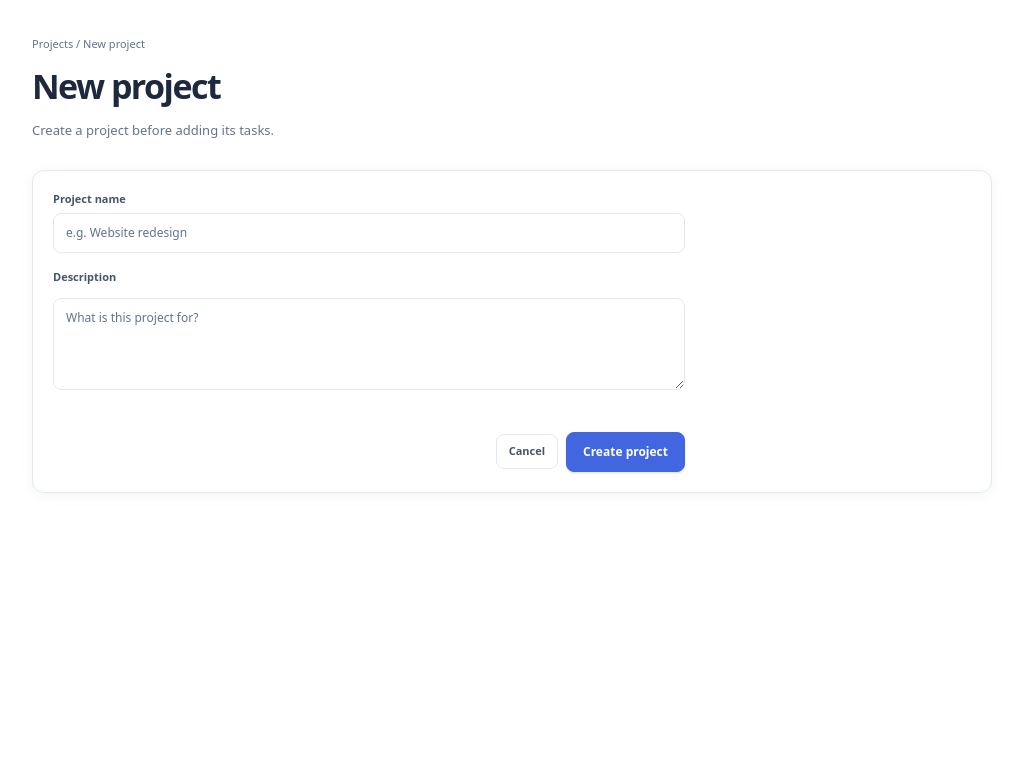
ProjectForm (rejected submit) › keeps what was typed when the action reports a validation error
The image size is (1024, 768).
Type "Website redesign" into the field labelled "Project name" at (369, 233), box [53,213,685,253]
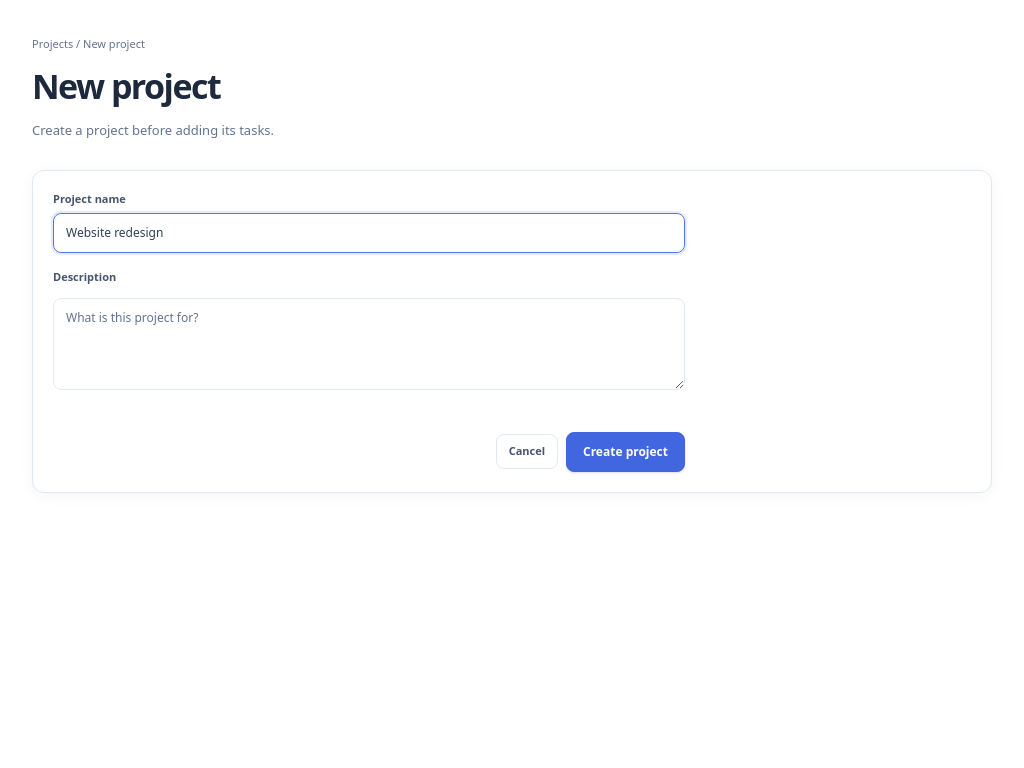
Type "Refresh the public website." into the text box labelled "Description" at (369, 344), box [53,298,685,390]
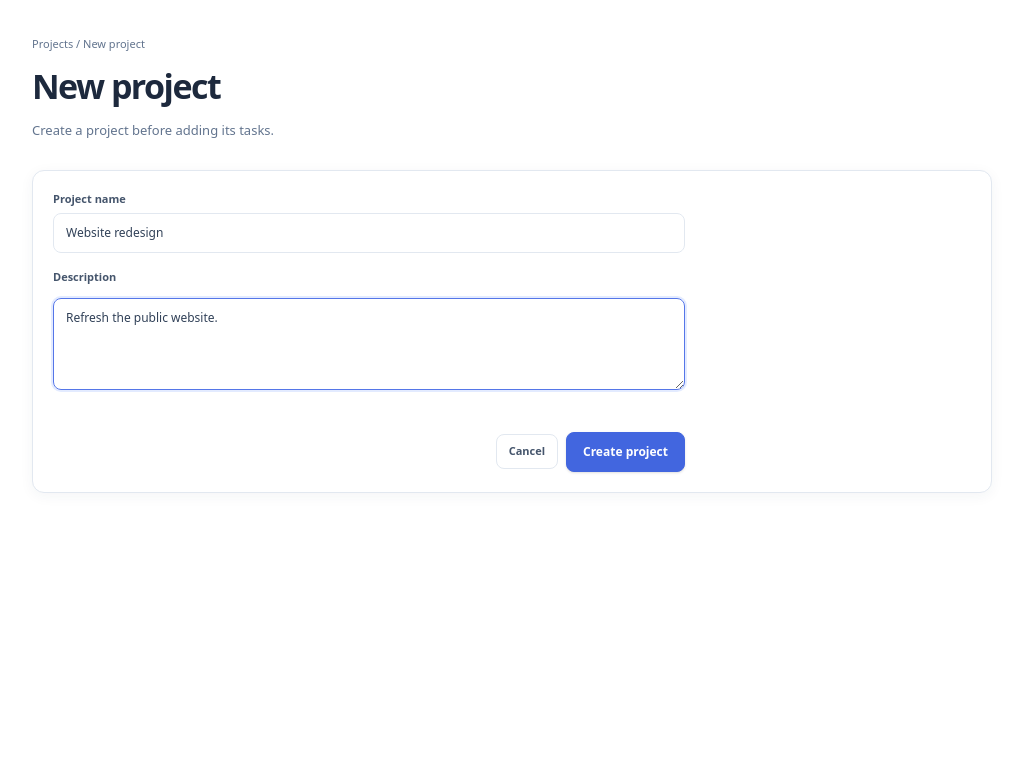
Click the button "Create project" at (626, 452), box [566,432,685,472]
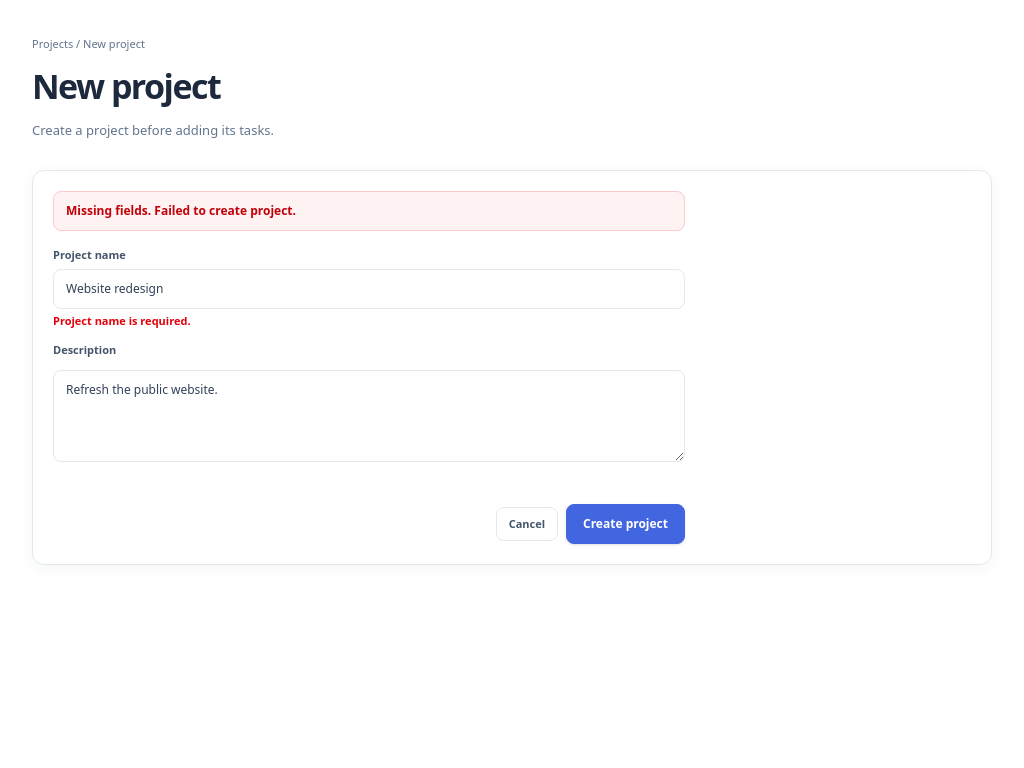
Result: the text "Project name is required." is shown at [53,313,190,328]
